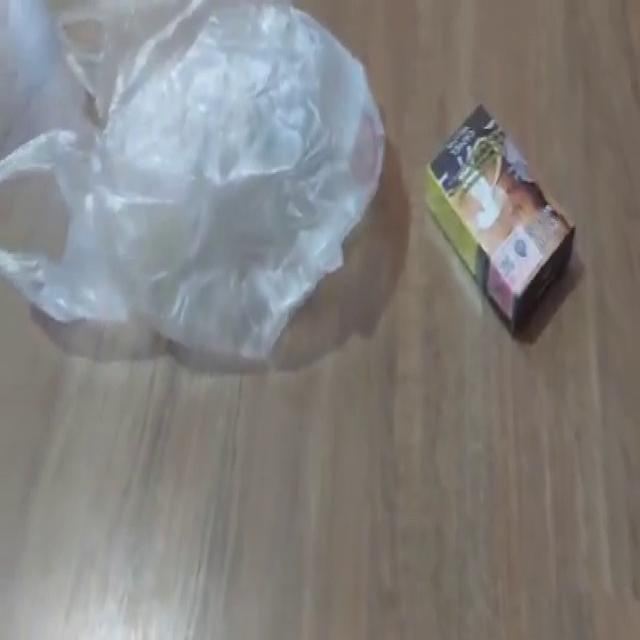Anorganik: (2, 1, 390, 368)
Organik: (423, 96, 579, 346)
